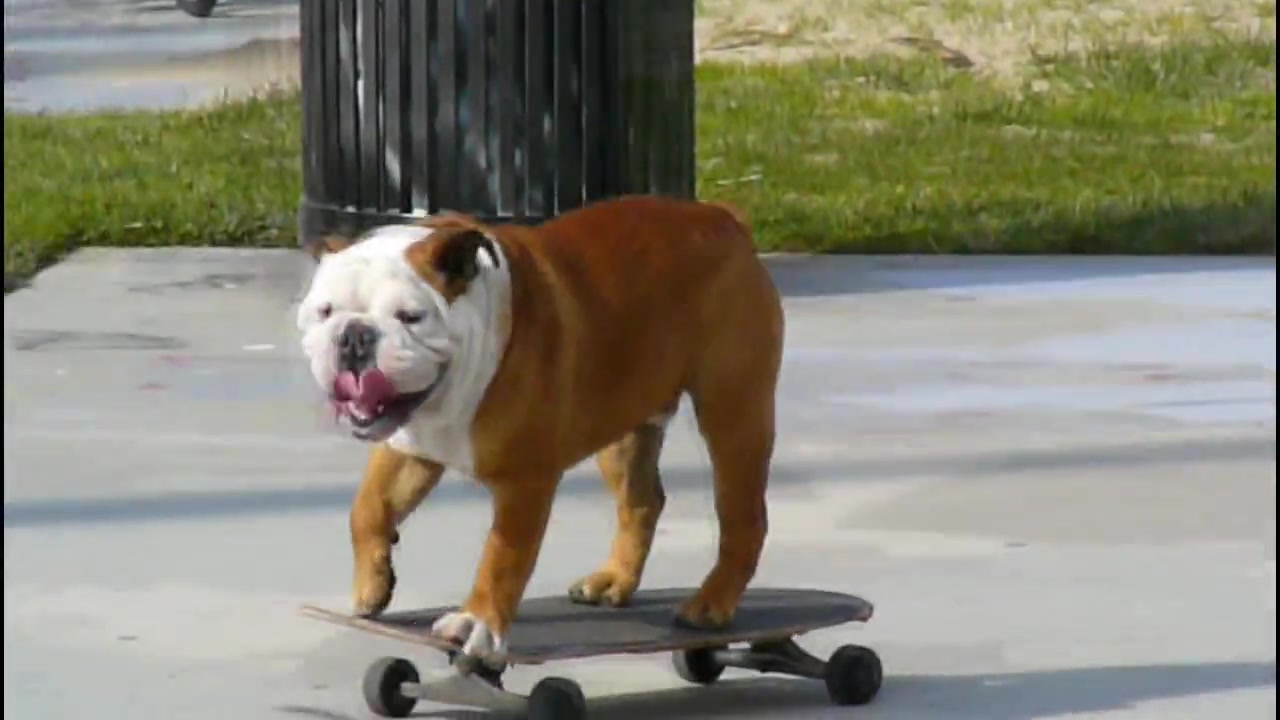dog: (296, 204, 789, 663)
